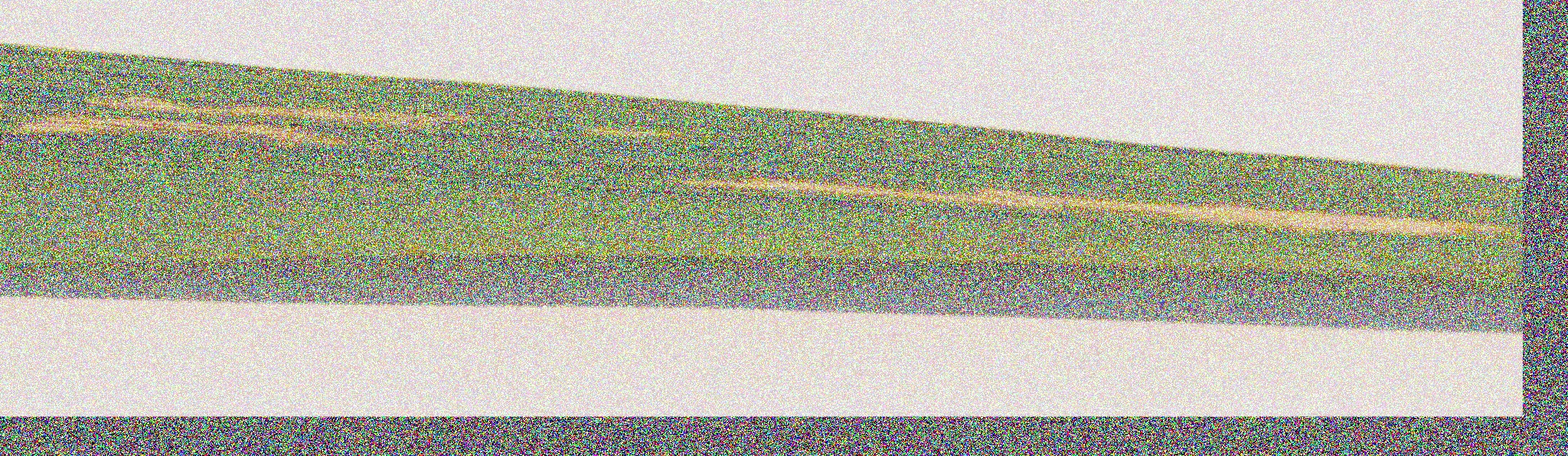Leaf_Blast: (0, 94, 506, 171), (671, 171, 1495, 213)
